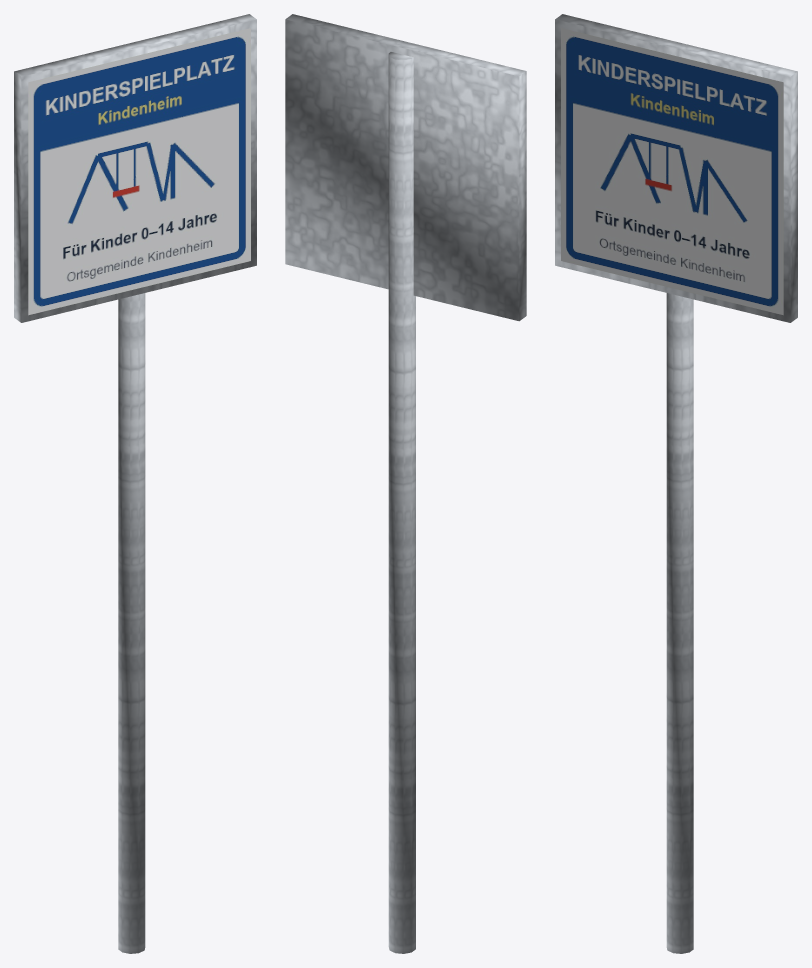
The model's file is spielplatz_sign.glb.
3 renders of one model, left to right at view 1: azimuth 30°, elevation 25°; view 2: azimuth 150°, elevation 25°; view 3: azimuth 330°, elevation 25°, orthographic.
Parts seen in each view (by area): view 1: Sign_face, Sign_post; view 2: Sign_post; view 3: Sign_face, Sign_post.
Part boxes in pixels (x1=…): Sign_face: x1=28, y1=28, x2=250, y2=315; Sign_post: x1=14, y1=14, x2=256, y2=953; Sign_post: x1=285, y1=14, x2=526, y2=953; Sign_face: x1=561, y1=28, x2=783, y2=315; Sign_post: x1=555, y1=14, x2=797, y2=953.
Bounding box in the file's own units: 0.74 × 2.72 × 0.081.
Materials: 2 (2 with a texture image).
